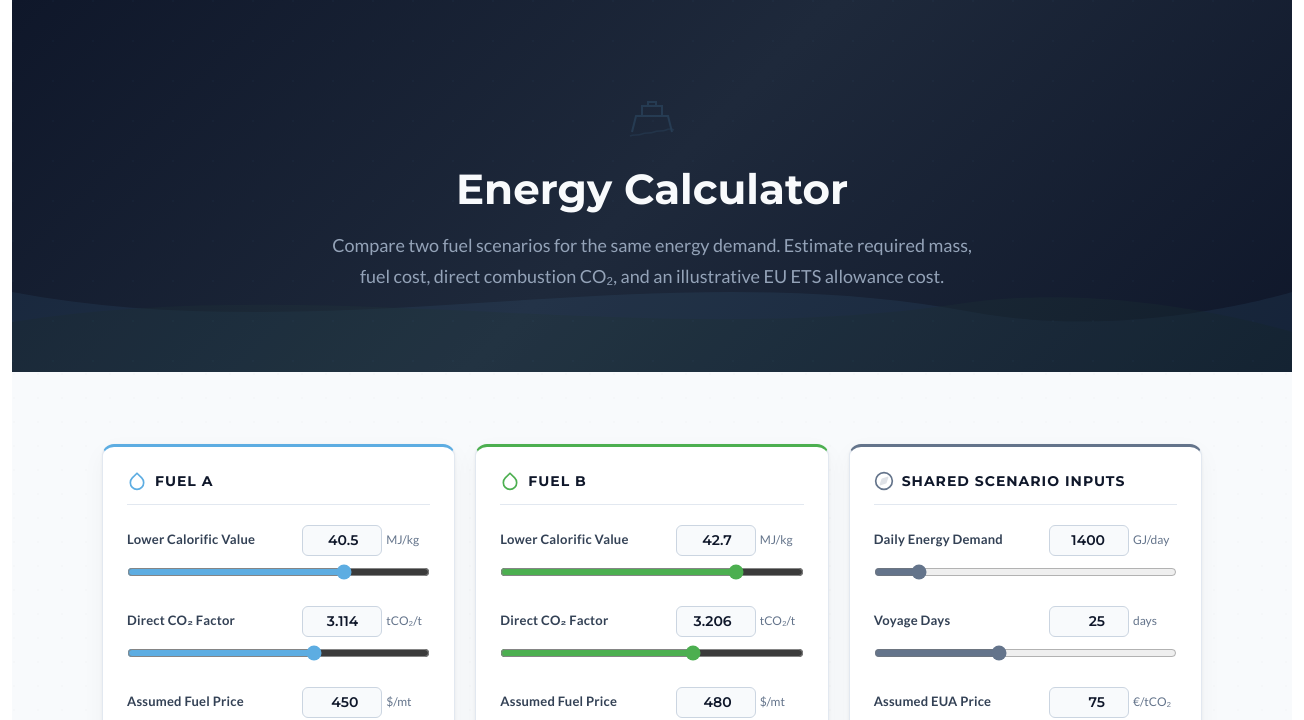
Test: EnergyCalculatorPage › clamps typed numeric values to the supported input range
Replace the text in the 1st number field with "-10" at (342, 540), box [302, 525, 382, 556]
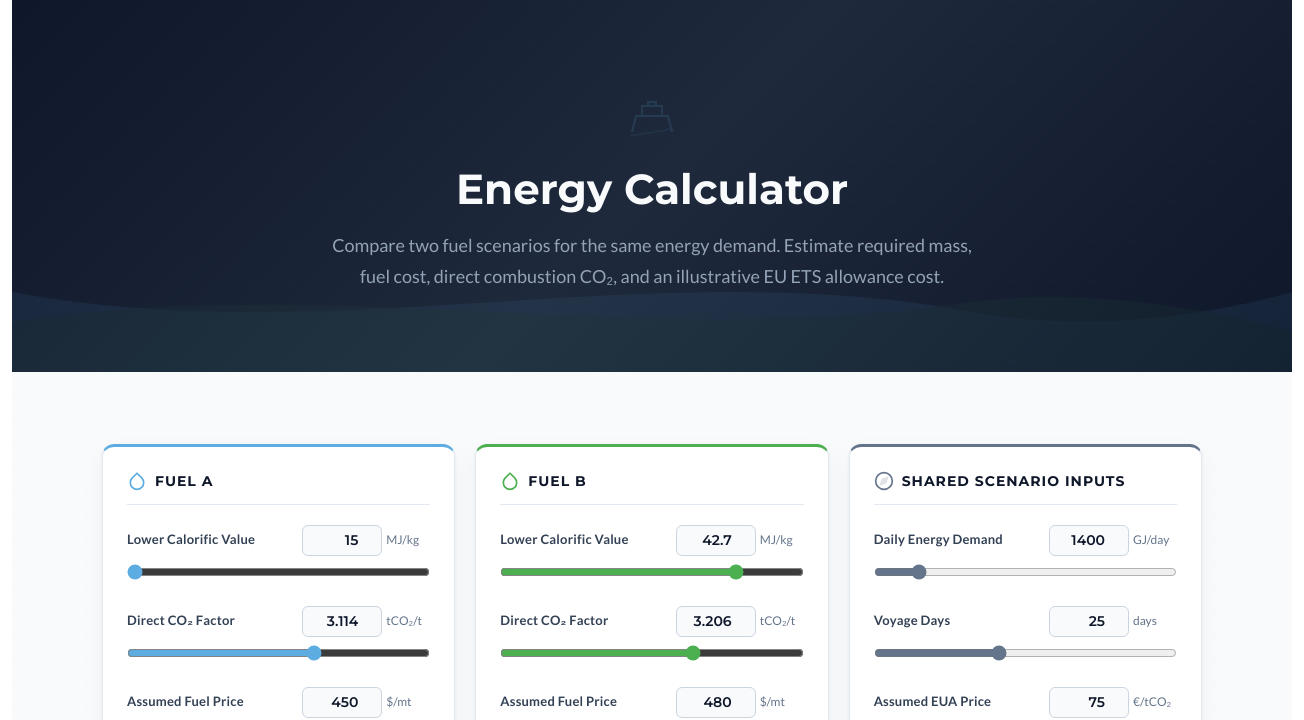
Result: the 1st number field holds "15" at [302, 525, 382, 556]
